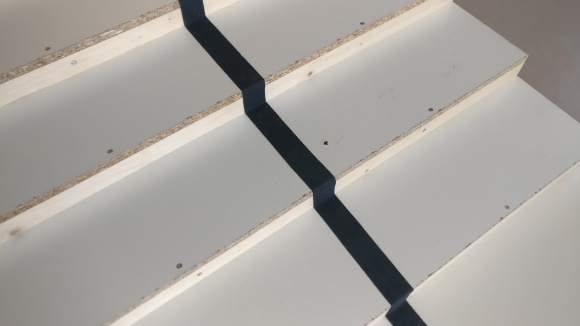stairs: (1, 1, 579, 326)
